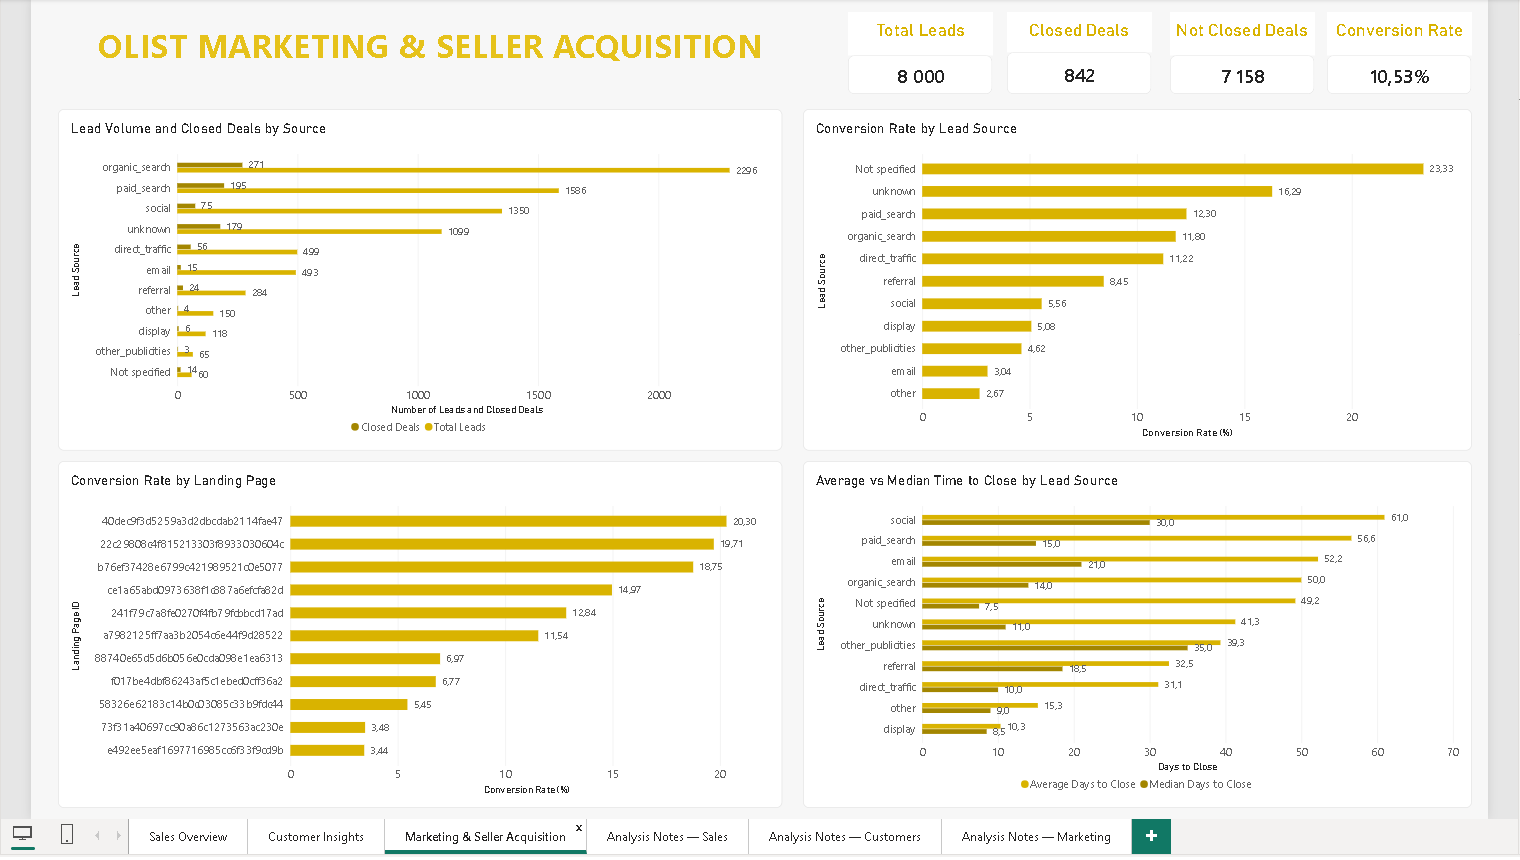

What the dashboard file says about the page in this screenshot:
{"tool":"powerbi","page":{"name":"Marketing & Seller Acquisition","canvas":[1920,1080],"ordinal":2},"visuals":[{"type":"textbox","box":[88.2,30.3,928.5,86.9],"z":0},{"type":"cardVisual","title":"Total Leads","fields":{"Data":["Marketing Funnel Overview.Total_Leads_Tekst"]},"box":[1076,17.1,191,112],"z":1000},{"type":"cardVisual","title":"Closed Deals","fields":{"Data":["Sum(Marketing Funnel Overview.closed_deals)"]},"box":[1285.5,17.1,191,112],"z":2000},{"type":"cardVisual","title":"Not Closed Deals","fields":{"Data":["Marketing Funnel Overview.Not_Closed_Deals_Tekst"]},"box":[1500.1,17.1,191,112],"z":3000},{"type":"cardVisual","title":"Conversion Rate","fields":{"Data":["Marketing Funnel Overview.Conversion_Rate_Fix"]},"box":[1706.9,17.1,191,112],"z":4000},{"type":"clusteredBarChart","title":"Conversion Rate by Lead Source","fields":{"Category":["Lead Source Performance.origin_display"],"Y":["Sum(Lead Source Performance.conversion_rate)"]},"box":[1016.8,144.9,881.1,450.4],"z":5000},{"type":"clusteredBarChart","title":"Conversion Rate by Landing Page","fields":{"Category":["Landing Page Performance.landing_page_id"],"Y":["Sum(Landing Page Performance.conversion_rate)"]},"box":[35.6,608.5,953.6,457],"z":6000},{"type":"clusteredBarChart","title":"Average vs Median Time to Close by Lead Source","fields":{"Category":["Lead Source Performance.origin_display"],"Y":["Sum(Time to Close by Source.avg_days_to_close)","Sum(Time to Close by Source.median_days_to_close)"]},"box":[1016.8,608.5,881.1,457],"z":7000},{"type":"clusteredBarChart","title":"Lead Volume and Closed Deals by Source","fields":{"Category":["Lead Source Performance.origin_display"],"Y":["Sum(Lead Source Performance.closed_deals)","Sum(Lead Source Performance.total_leads)"]},"box":[35.6,144.9,953.6,450.4],"z":7001}]}

Visuals, with their boxes on the page's 1920x1080 design canvas (x1, y1, x2, y2). These are canvas units, not pixel positions in the 1520x860 screenshot, which may show the page scaled, cropped or inside an application window:
textbox: crop(88, 30, 1017, 117)
"Total Leads" cardVisual: crop(1076, 17, 1267, 129)
"Closed Deals" cardVisual: crop(1286, 17, 1476, 129)
"Not Closed Deals" cardVisual: crop(1500, 17, 1691, 129)
"Conversion Rate" cardVisual: crop(1707, 17, 1898, 129)
"Conversion Rate by Lead Source" clusteredBarChart: crop(1017, 145, 1898, 595)
"Conversion Rate by Landing Page" clusteredBarChart: crop(36, 608, 989, 1066)
"Average vs Median Time to Close by Lead Source" clusteredBarChart: crop(1017, 608, 1898, 1066)
"Lead Volume and Closed Deals by Source" clusteredBarChart: crop(36, 145, 989, 595)
